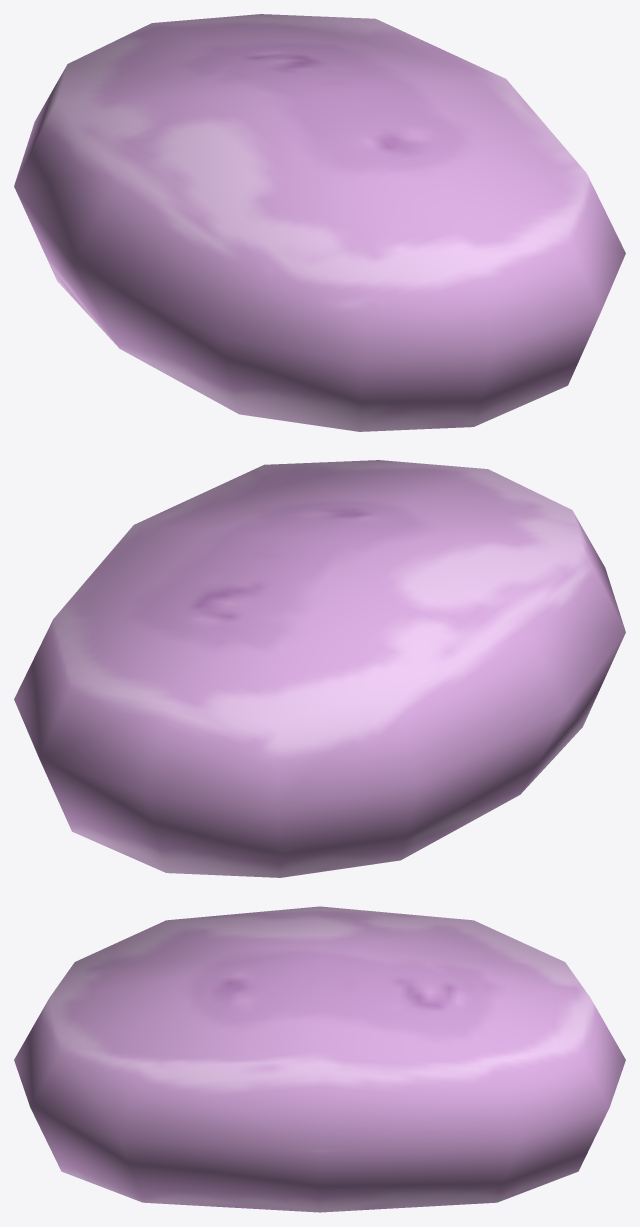
Rendered from SM_PROP_soap_interior.fbx.
3 views of the same model, one above another, from view 1: azimuth 30°, elevation 25°; view 2: azimuth 150°, elevation 25°; view 3: azimuth 270°, elevation 25° (orthographic). The views are drawn at different scales.
Visible parts, largest first — view 1: SM_PROP_soap_interior; view 2: SM_PROP_soap_interior; view 3: SM_PROP_soap_interior.
Boxes of the visible parts, x1,y1,x2,y2 form: SM_PROP_soap_interior: (14, 14, 625, 431); SM_PROP_soap_interior: (14, 460, 625, 877); SM_PROP_soap_interior: (14, 906, 625, 1212).
Size of the model in its own units: 9.76 by 4.76 by 12.82.
